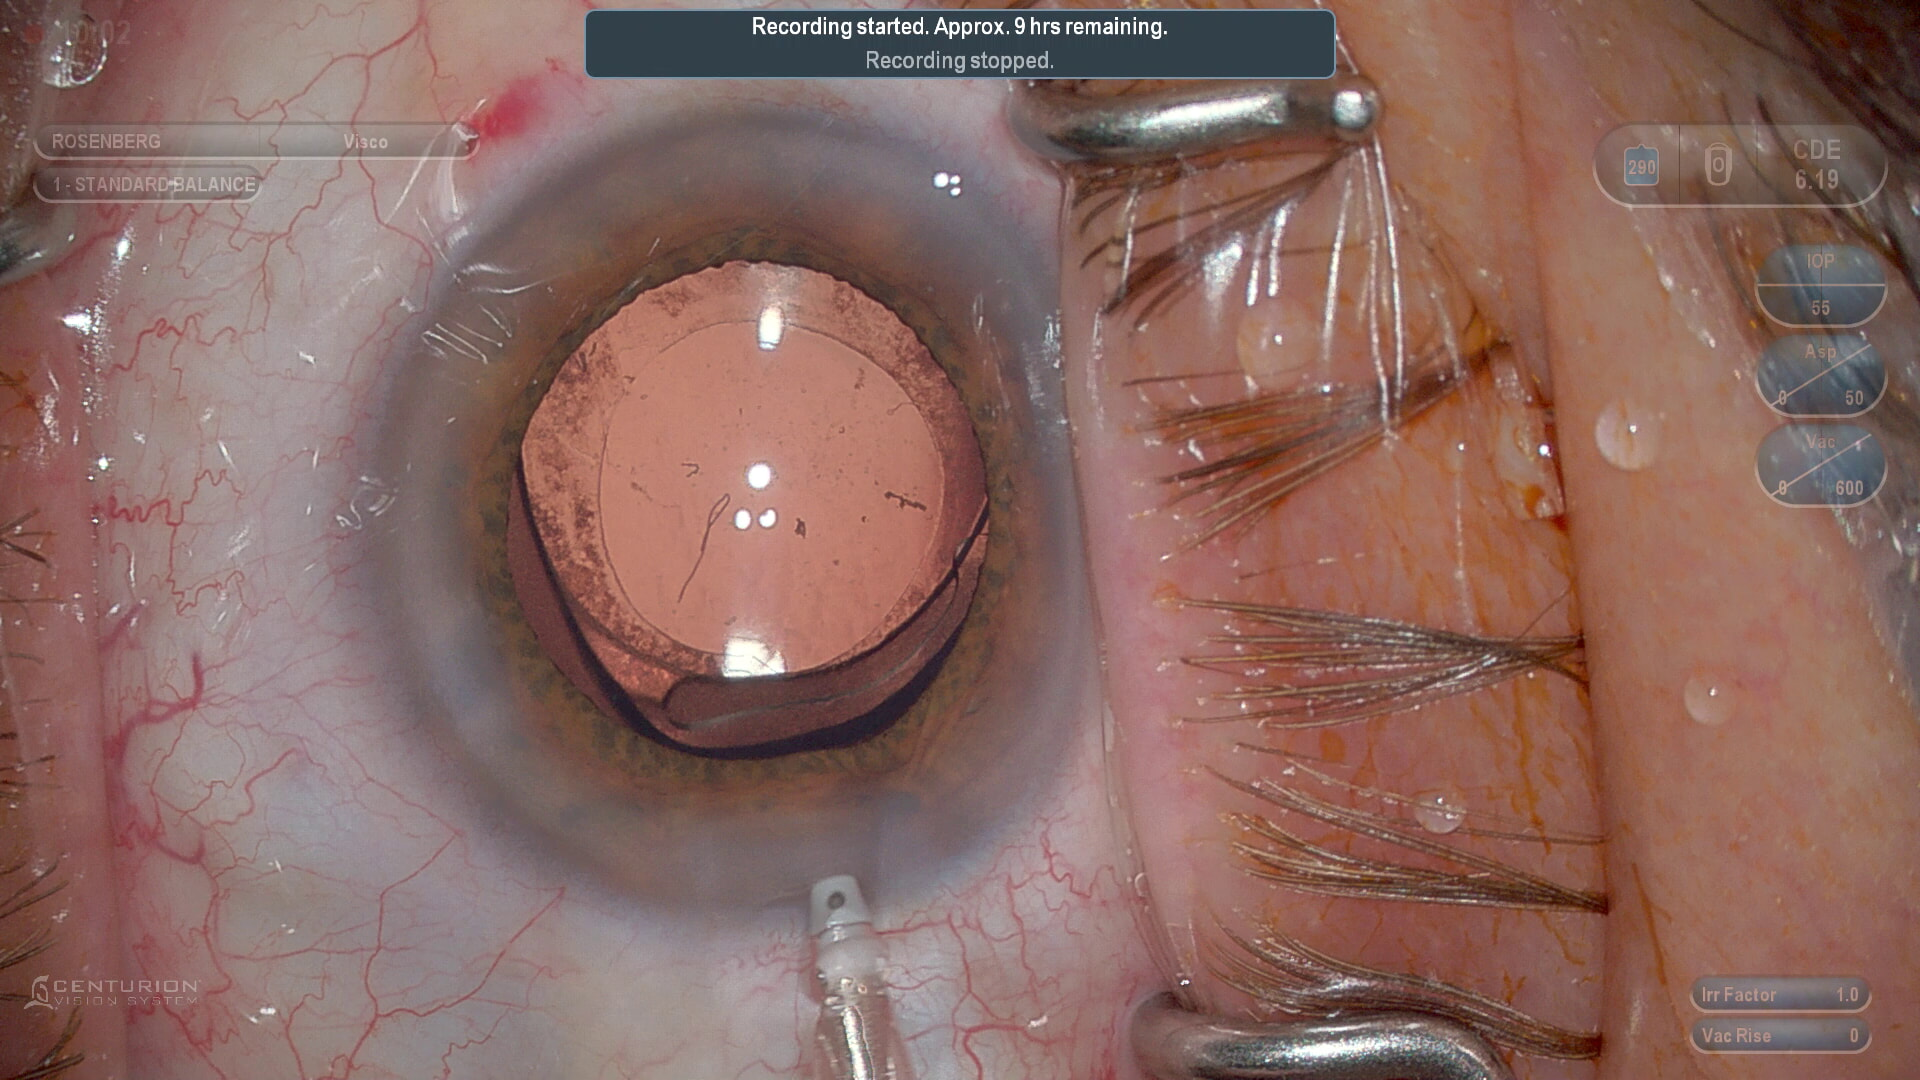iris: (420, 138, 1088, 844)
pupil: (508, 255, 999, 761)
